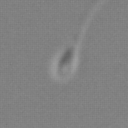normal: (74, 1, 111, 44)
